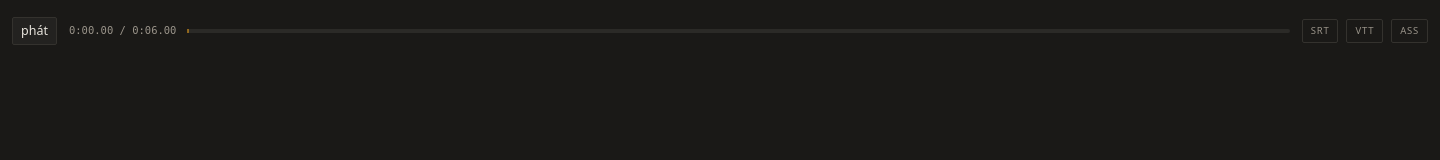
Scenario: Transport: nut phat, timecode mono, track co dau doc, ba nut xuat › NUT PHAT: nhan va `aria-pressed` doi dung khi phat / tam dung
The image size is (1440, 160).
Click the button with class "tp__phat": {"x": 34, "y": 31} [12,17,57,45]
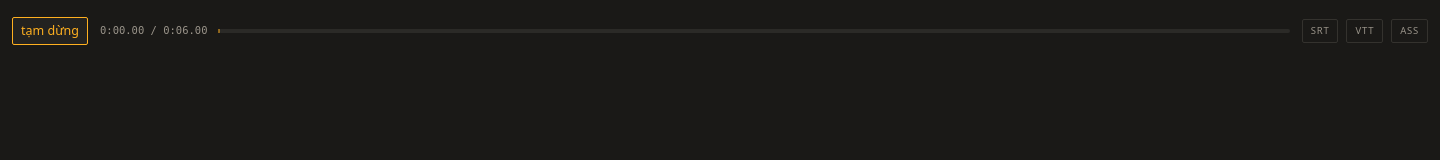
expect the button with class "tp__phat" reads "tạm dừng": met
Click the button with class "tp__phat": {"x": 50, "y": 31} [12,17,88,45]
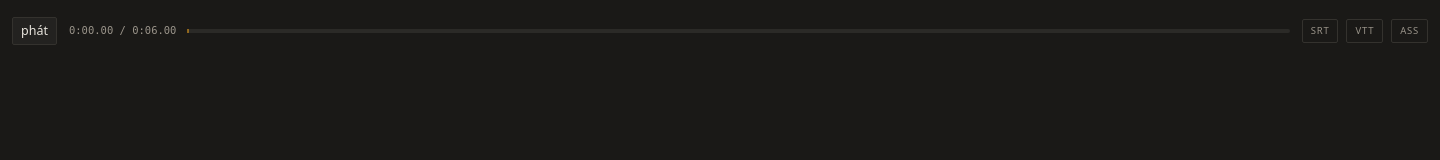
expect the button with class "tp__phat" reads "phát": met, box [12,17,57,45]
